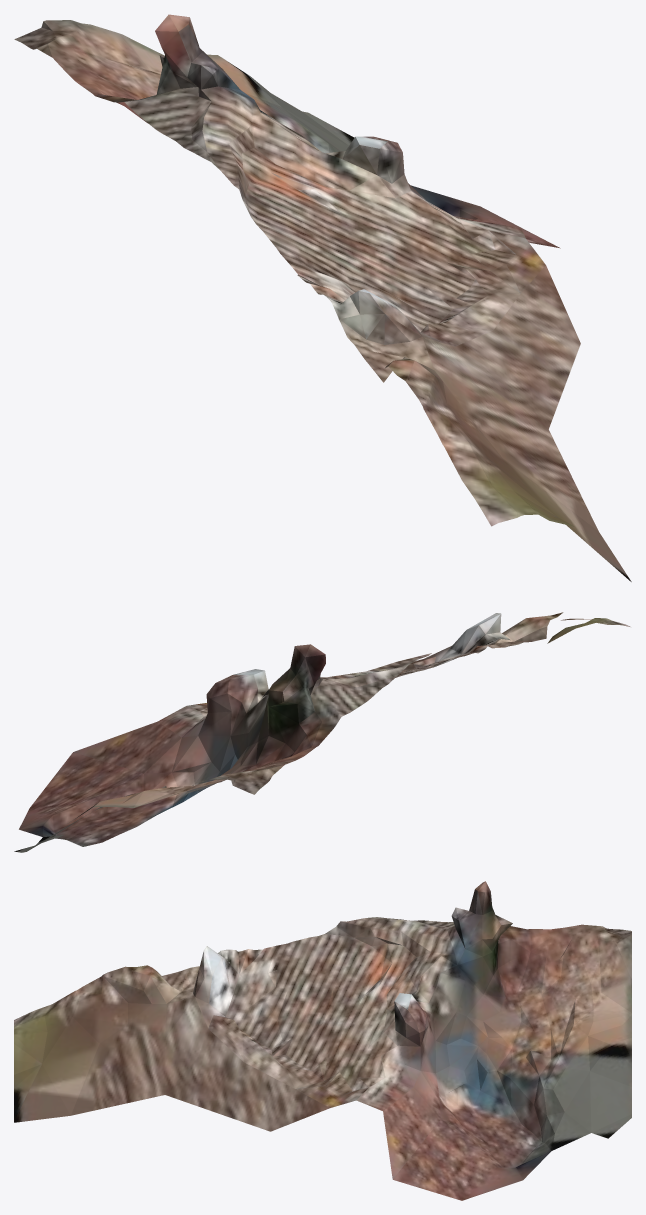
The picture shows the model from 3 angles, top to bottom: view 1: azimuth 30°, elevation 25°; view 2: azimuth 150°, elevation 25°; view 3: azimuth 270°, elevation 25°; orthographic projection. The views are drawn at different scales.
Size of the model in its own units: 6.73 by 5.04 by 13.4.
1 material, 1 textured.
